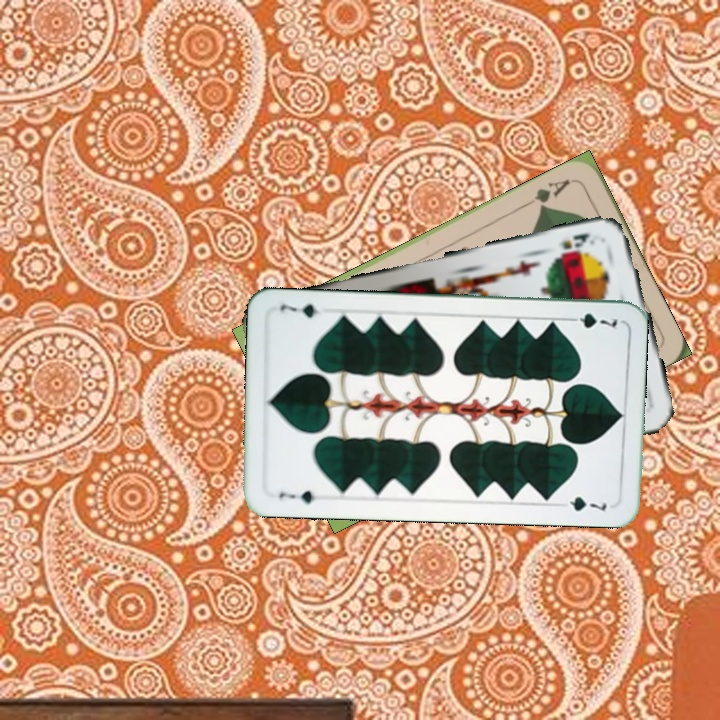G7: (562, 309, 620, 332), (274, 486, 318, 506)
GA: (521, 174, 577, 213)
SK: (557, 229, 598, 252)
